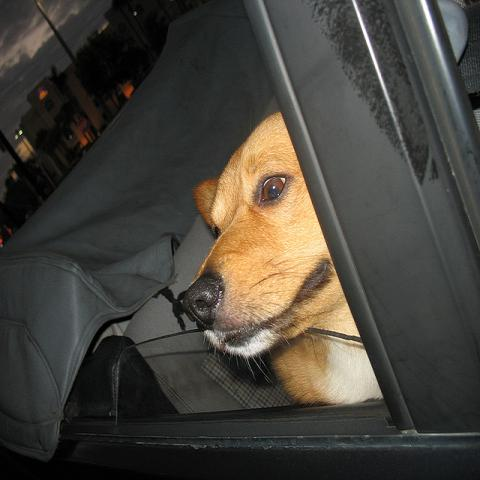car: (2, 0, 480, 469)
